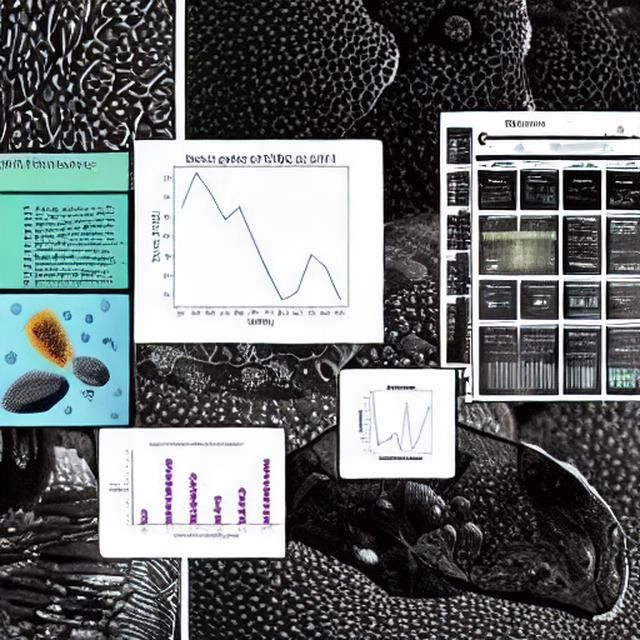Graph: (136, 144, 380, 327), (103, 438, 283, 542), (346, 381, 453, 461), (482, 350, 558, 396)
